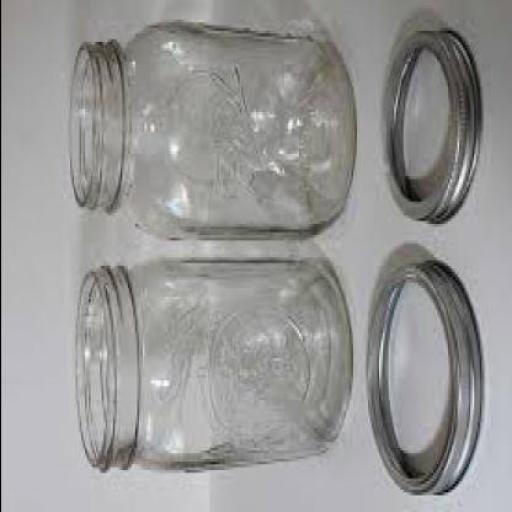glass: (67, 22, 354, 246), (72, 264, 350, 472)
metal: (362, 260, 480, 498), (380, 34, 480, 229)
